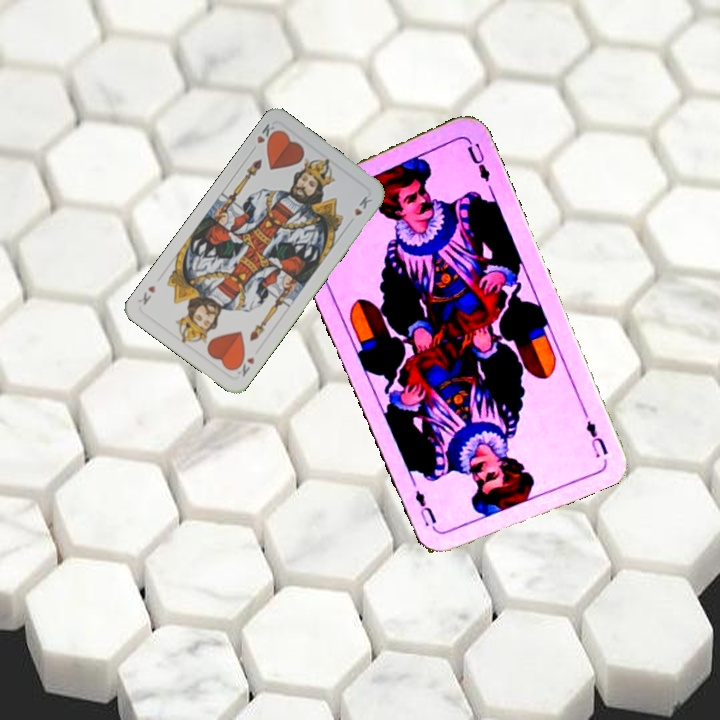EU: (582, 416, 611, 461)
HK: (247, 119, 281, 155), (230, 351, 257, 379)
